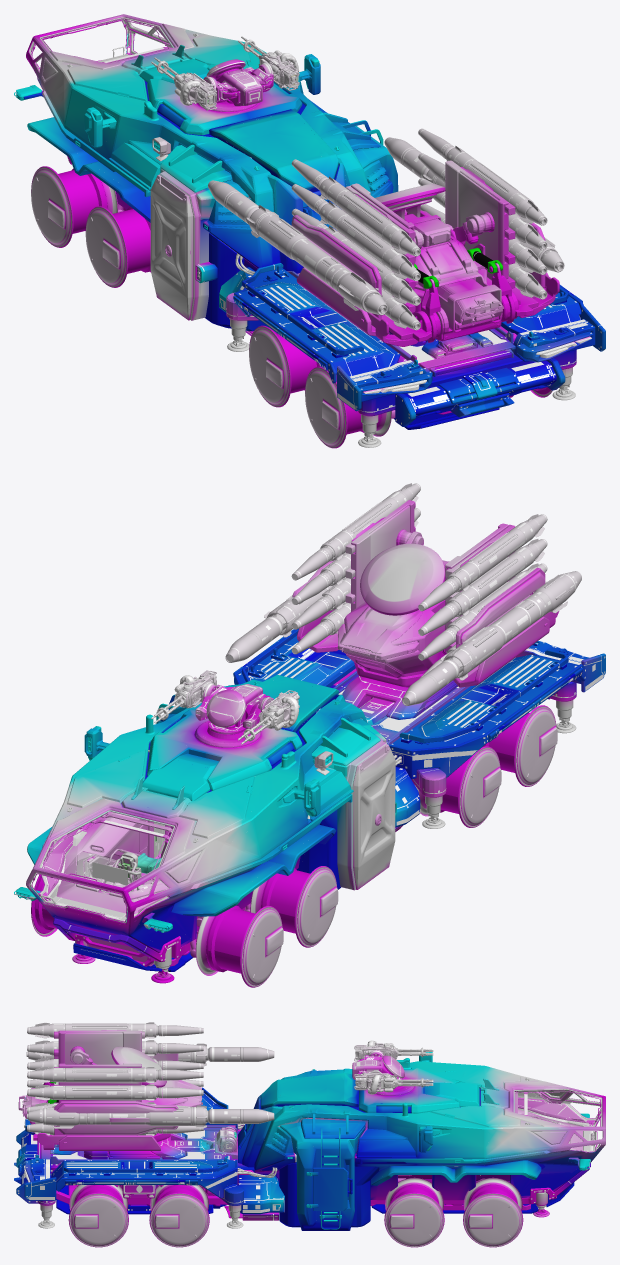
3 views of the same model, one above another, from view 1: azimuth 30°, elevation 25°; view 2: azimuth 150°, elevation 25°; view 3: azimuth 270°, elevation 25° (orthographic). The views are drawn at different scales.
Parts seen in each view (by area): view 1: 91d783_nose.001, 91d783_body.001, 5b4259_launcher.001, 5b4259_torpedo_turret_geo.001, bd65b8_taln_torpedo_s7.001, 3e42ea_entrance_door.001, 722f3b_spindle_left.001, 722f3b_spindle_left.002, 722f3b_spindle_left.003, f0a910_taln_torpedo_s5.001, f0a910_taln_torpedo_s5.002, 722f3b_spindle_left.004 (+16 smaller); view 2: 91d783_nose.001, 91d783_body.001, 5b4259_torpedo_turret_geo.001, 5b4259_launcher.001, bd65b8_taln_torpedo_s7.001, 3e42ea_entrance_door.001, 5b4259_scanner.001, 722f3b_spindle_left.001, 722f3b_spindle_left.002, 789c99_cockpit.001, 722f3b_spindle_left.004, 722f3b_spindle_left.003 (+15 smaller); view 3: 91d783_nose.001, 91d783_body.001, 5b4259_launcher.001, bd65b8_taln_torpedo_s7.002, 5b4259_torpedo_turret_geo.001, 9b6a7b_spindle_right.001, 9b6a7b_spindle_right.002, 9b6a7b_spindle_right.003, 9b6a7b_spindle_right.004, f0a910_taln_torpedo_s5.005, f0a910_taln_torpedo_s5.006, f0a910_taln_torpedo_s5.001 (+15 smaller).
Part boxes in pixels (left/top/right/bottom): 91d783_nose.001: left=26, top=14, right=398, bottom=328; 91d783_body.001: left=219, top=253, right=605, bottom=429; 5b4259_launcher.001: left=291, top=160, right=559, bottom=346; 5b4259_torpedo_turret_geo.001: left=296, top=209, right=548, bottom=341; bd65b8_taln_torpedo_s7.001: left=208, top=180, right=387, bottom=315; 3e42ea_entrance_door.001: left=150, top=174, right=193, bottom=320; 722f3b_spindle_left.001: left=31, top=168, right=107, bottom=245; 722f3b_spindle_left.002: left=85, top=206, right=150, bottom=285; 722f3b_spindle_left.003: left=249, top=328, right=320, bottom=405; f0a910_taln_torpedo_s5.001: left=291, top=159, right=420, bottom=256; f0a910_taln_torpedo_s5.002: left=291, top=184, right=420, bottom=281; 722f3b_spindle_left.004: left=305, top=369, right=381, bottom=446; 91d783_nose.001: left=26, top=675, right=396, bottom=971; 91d783_body.001: left=233, top=628, right=605, bottom=831; 5b4259_torpedo_turret_geo.001: left=297, top=529, right=549, bottom=687; 5b4259_launcher.001: left=292, top=500, right=559, bottom=652; bd65b8_taln_torpedo_s7.001: left=402, top=571, right=581, bottom=705; 3e42ea_entrance_door.001: left=353, top=744, right=395, bottom=889; 5b4259_scanner.001: left=360, top=543, right=445, bottom=615; 722f3b_spindle_left.001: left=206, top=905, right=283, bottom=985; 722f3b_spindle_left.002: left=261, top=868, right=338, bottom=945; 789c99_cockpit.001: left=56, top=811, right=246, bottom=914; 722f3b_spindle_left.004: left=483, top=708, right=557, bottom=784; 722f3b_spindle_left.003: left=424, top=749, right=501, bottom=825; 91d783_nose.001: left=238, top=1058, right=605, bottom=1230; 91d783_body.001: left=14, top=1087, right=284, bottom=1220; 5b4259_launcher.001: left=33, top=1030, right=178, bottom=1149; bd65b8_taln_torpedo_s7.002: left=26, top=1105, right=274, bottom=1128; 5b4259_torpedo_turret_geo.001: left=18, top=1046, right=202, bottom=1150; 9b6a7b_spindle_right.001: left=465, top=1184, right=521, bottom=1246; 9b6a7b_spindle_right.002: left=386, top=1184, right=442, bottom=1246; 9b6a7b_spindle_right.003: left=151, top=1185, right=207, bottom=1246; 9b6a7b_spindle_right.004: left=70, top=1185, right=127, bottom=1245; f0a910_taln_torpedo_s5.005: left=27, top=1066, right=203, bottom=1082; f0a910_taln_torpedo_s5.006: left=27, top=1084, right=203, bottom=1100; f0a910_taln_torpedo_s5.001: left=27, top=1022, right=203, bottom=1038.
Bounding box in the file's own units: 32 × 28.47 × 88.53.
